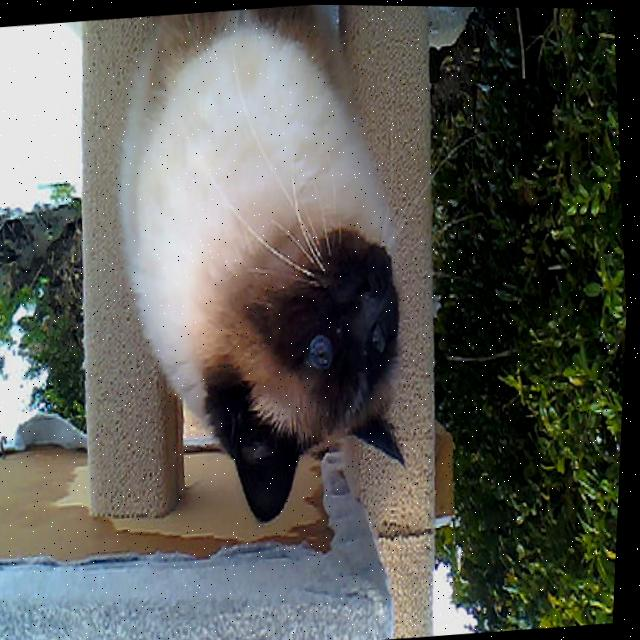Birman: (85, 1, 438, 541)
